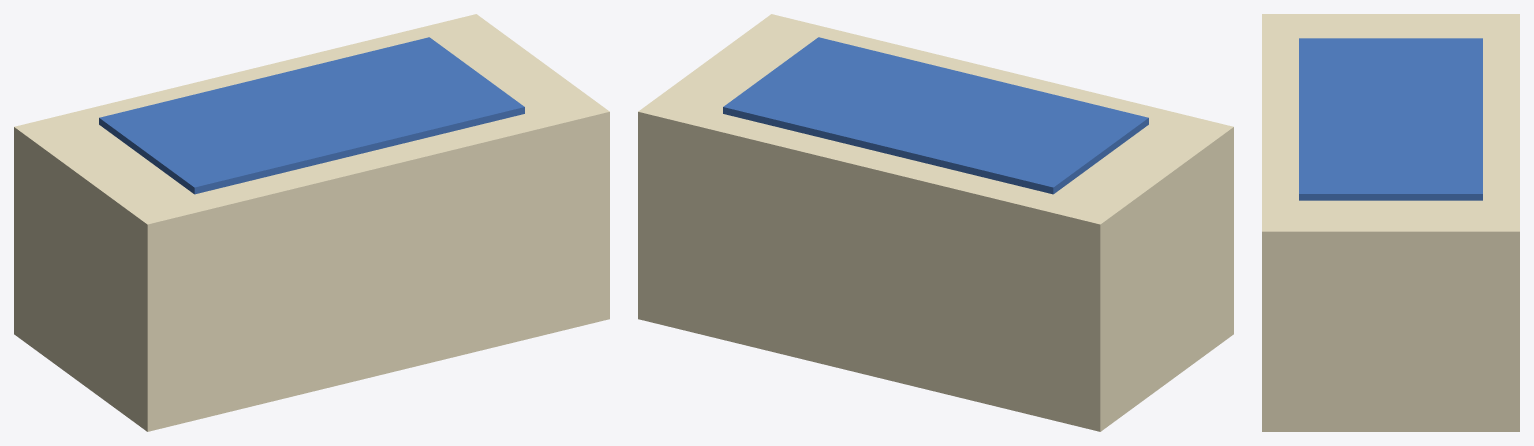
The model's file is sm_product_butter_block.glb.
3 views of the same model, side by side, from view 1: azimuth 30°, elevation 25°; view 2: azimuth 150°, elevation 25°; view 3: azimuth 270°, elevation 25° (orthographic). The views are drawn at different scales.
Visible parts, largest first — view 1: butter_block_0, butter_block_1; view 2: butter_block_0, butter_block_1; view 3: butter_block_0, butter_block_1.
Part boxes in pixels (<box>): butter_block_0: <box>14,14,609,431</box>; butter_block_1: <box>99,37,524,194</box>; butter_block_0: <box>638,14,1233,431</box>; butter_block_1: <box>723,37,1148,194</box>; butter_block_0: <box>1262,14,1519,431</box>; butter_block_1: <box>1299,38,1482,200</box>.
Size of what is drawn, in the model's own units: 0.14 by 0.062 by 0.07.
